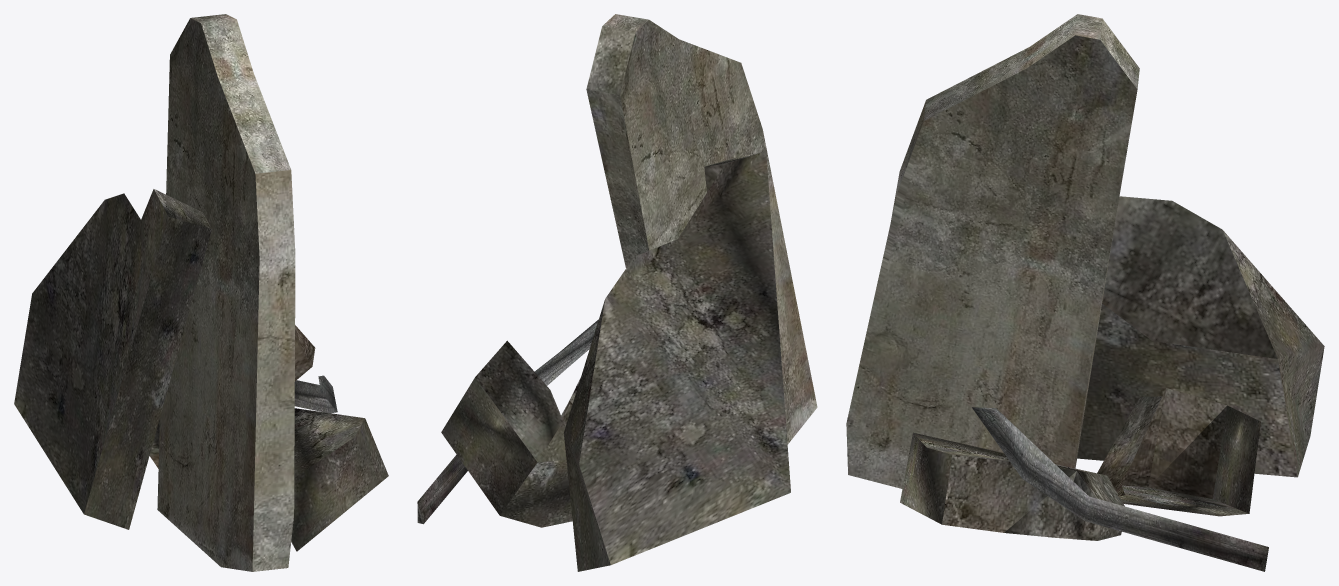
The model's file is barricade_tall02a.glb.
3 renders of one model, left to right at view 1: azimuth 30°, elevation 25°; view 2: azimuth 150°, elevation 25°; view 3: azimuth 270°, elevation 25°, orthographic. The views are drawn at different scales.
Visible parts, largest first — view 1: 0_composite_debris; view 2: 0_composite_debris; view 3: 0_composite_debris.
Part boxes in pixels (x1,y1,x2,y2): 0_composite_debris: [14, 14, 388, 571]; 0_composite_debris: [417, 14, 817, 571]; 0_composite_debris: [846, 14, 1324, 571].
Bounding box in the file's own units: 1.86 × 3.03 × 2.68.
Materials: 1 (1 with a texture image).
